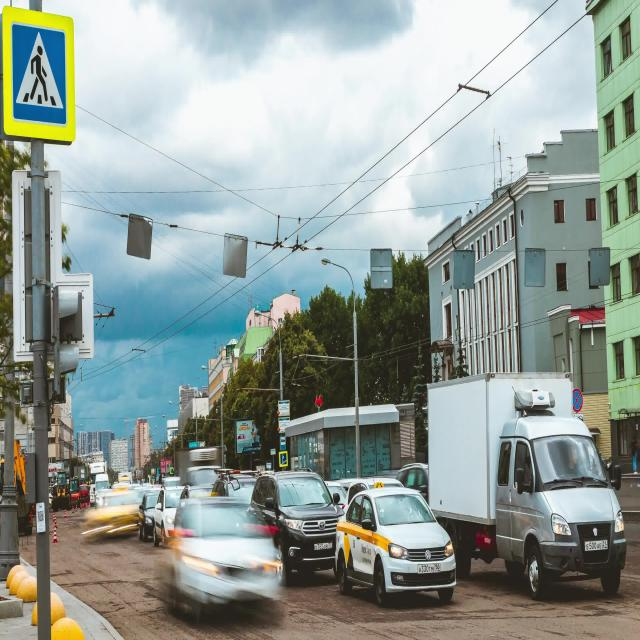Car: (335, 486, 455, 605), (162, 497, 280, 617), (249, 471, 342, 585), (83, 490, 141, 537), (153, 487, 183, 546), (347, 476, 401, 503), (174, 485, 213, 522), (212, 474, 256, 504), (397, 463, 428, 502), (139, 487, 159, 541), (181, 466, 219, 485), (90, 474, 110, 506), (326, 481, 347, 509), (180, 484, 213, 501), (162, 477, 182, 487), (80, 484, 89, 505), (112, 482, 132, 490)
Trucks: (427, 370, 628, 599)
